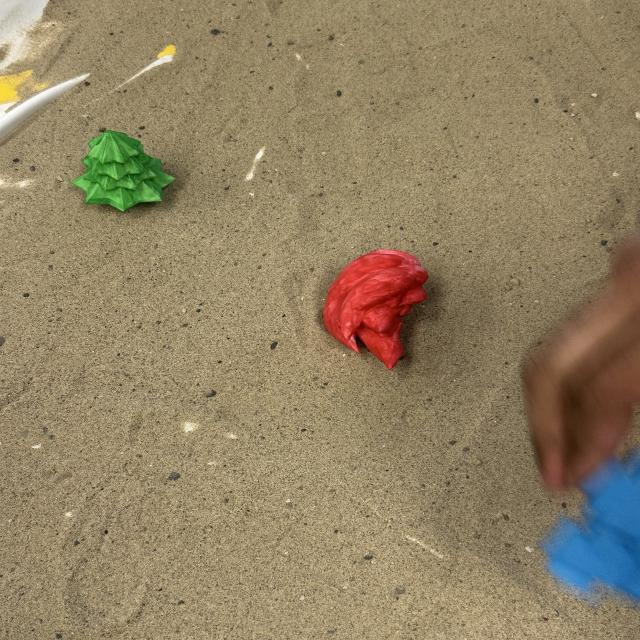fire: (321, 248, 429, 370)
house: (546, 452, 640, 600)
tree: (70, 128, 176, 212)
